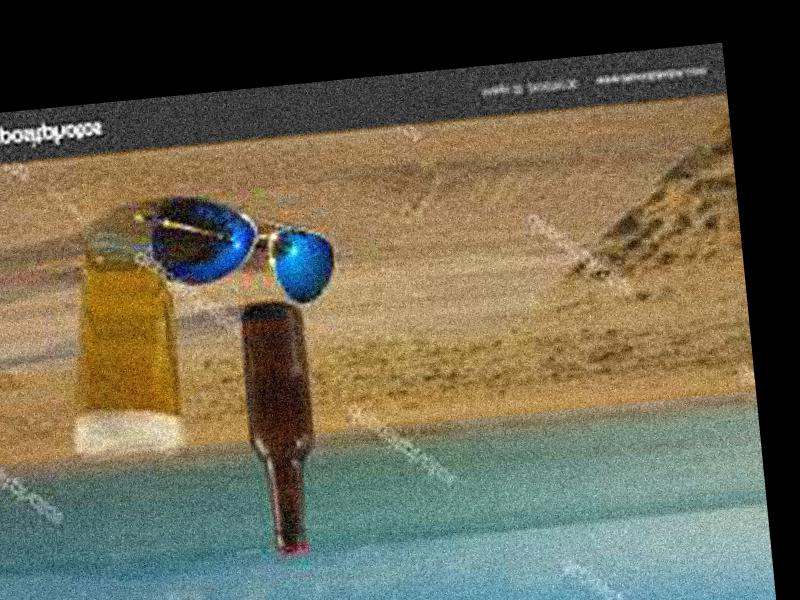Beer: (238, 302, 325, 557)
